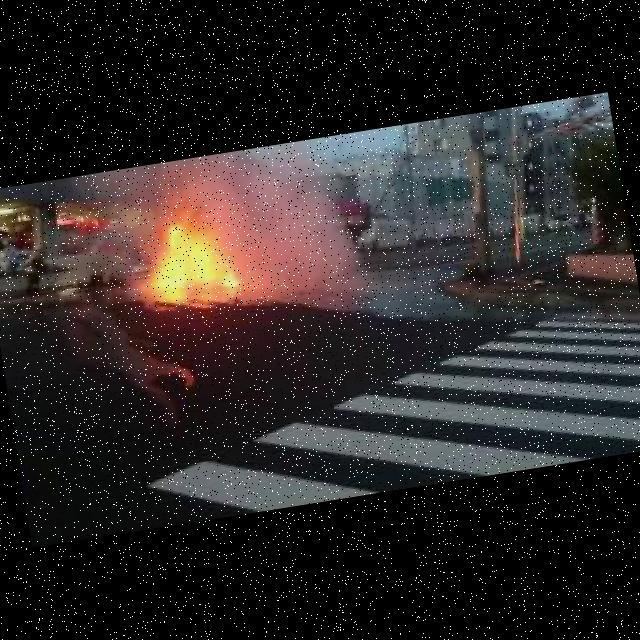Fire: (141, 213, 243, 308)
Smoke: (220, 137, 371, 300), (76, 158, 181, 259)
